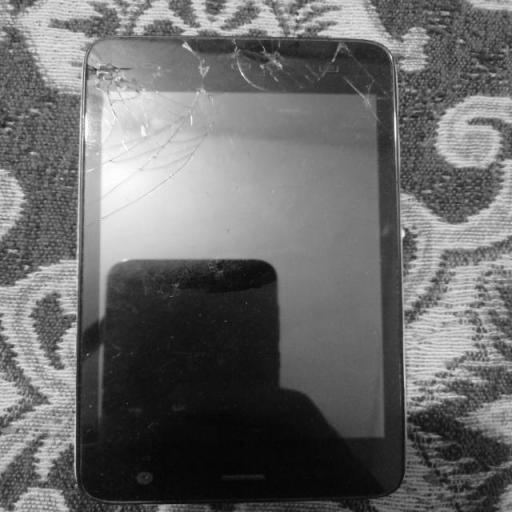phone: (73, 37, 409, 501)
